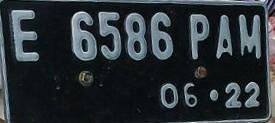5: (96, 8, 128, 62)
6: (69, 12, 100, 62), (151, 9, 176, 61)
8: (123, 11, 150, 60)
A: (214, 13, 234, 58)
E: (8, 6, 48, 64)
M: (235, 12, 267, 60)
P: (183, 13, 213, 59)
